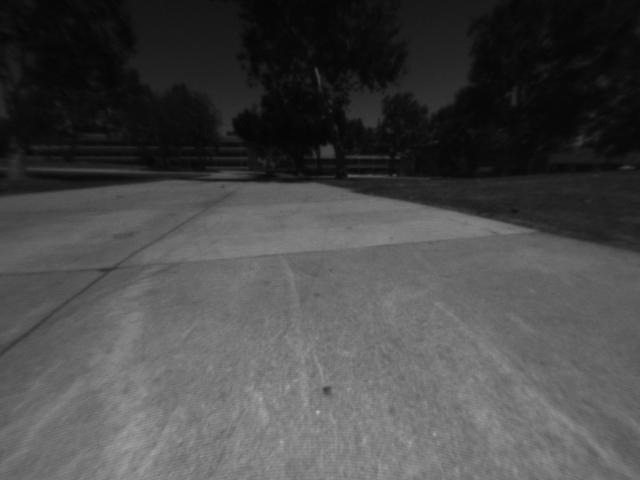dogtoy: (504, 200, 529, 222)
